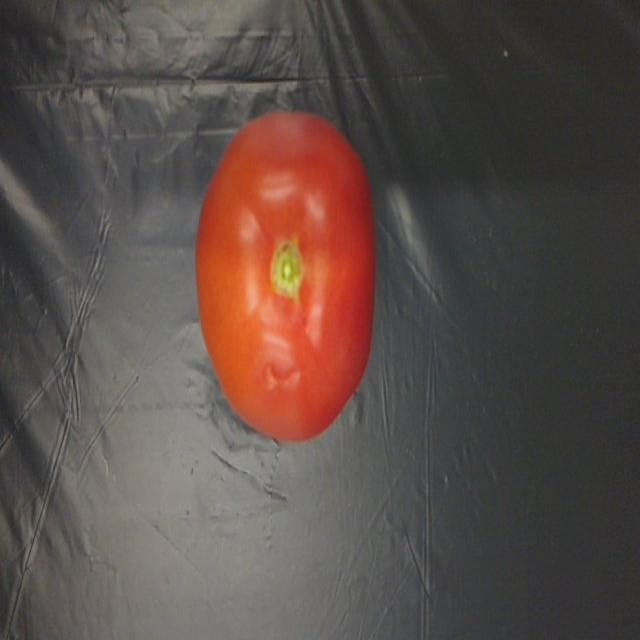sari: (185, 112, 388, 467)
